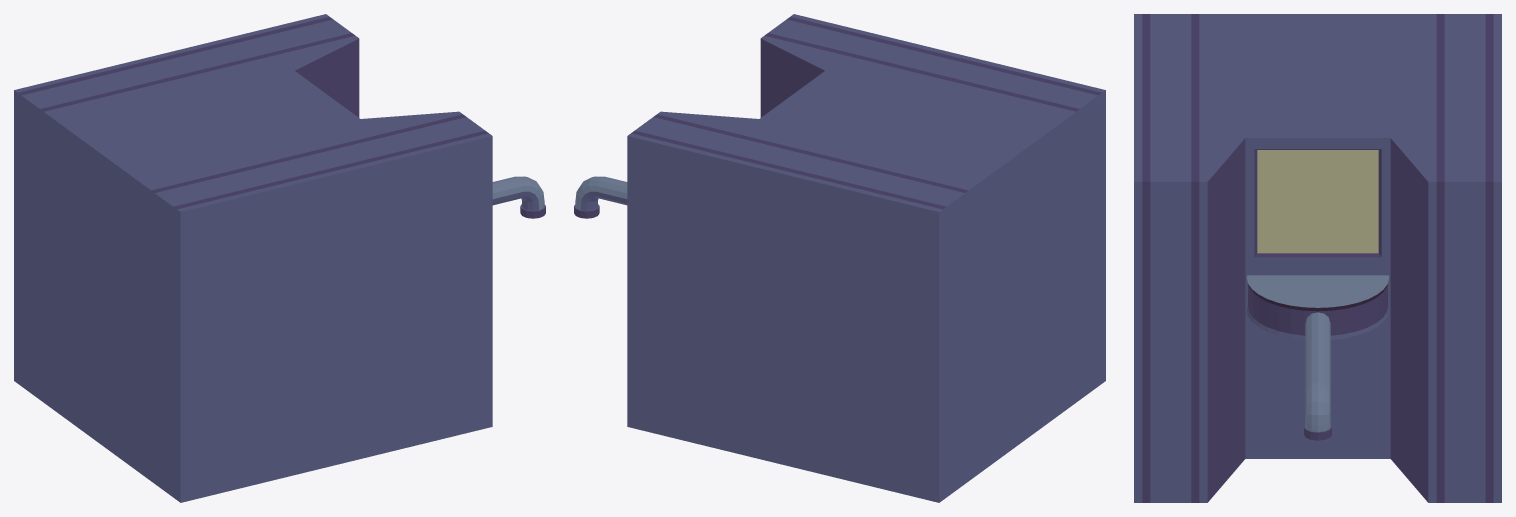
Rendered from coffee_machine.glb.
3 renders of one model, left to right at view 1: azimuth 30°, elevation 25°; view 2: azimuth 150°, elevation 25°; view 3: azimuth 270°, elevation 25°, orthographic. The views are drawn at different scales.
Parts seen in each view (by area): view 1: machine, tap; view 2: machine, tap; view 3: machine, wheel, tap.
Boxes of the visible parts, bbox=[...] form: machine: bbox=[14, 14, 492, 502]; tap: bbox=[492, 176, 545, 218]; machine: bbox=[627, 14, 1105, 502]; tap: bbox=[574, 176, 627, 218]; machine: bbox=[1134, 14, 1501, 502]; wheel: bbox=[1246, 275, 1389, 339]; tap: bbox=[1304, 312, 1331, 440].
Bounding box in the file's own units: 7.18 × 4.47 × 4.64.
1 material, 1 textured.
